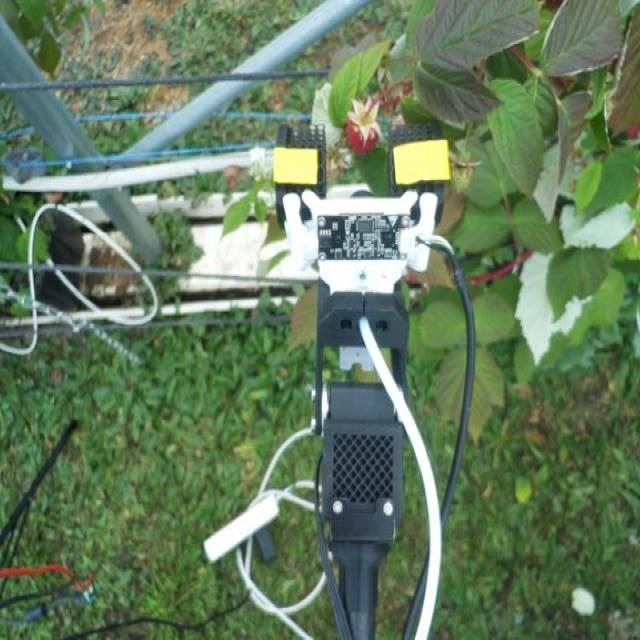Riped berries: (342, 95, 383, 156)
